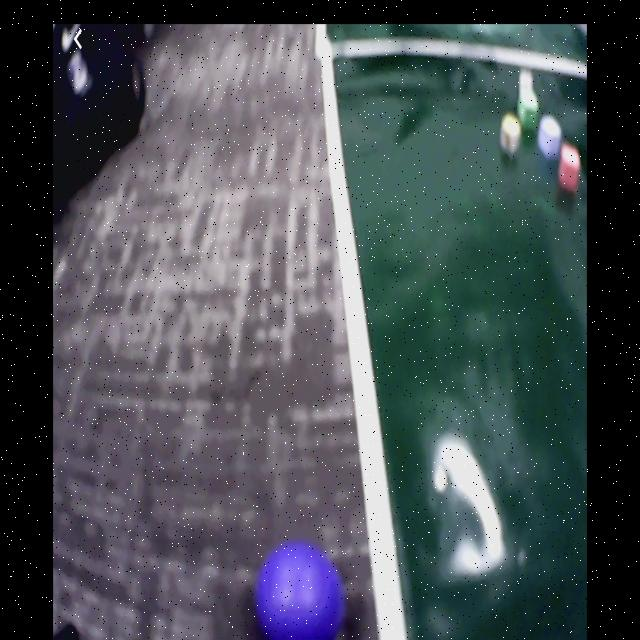ball: (255, 540, 344, 640)
